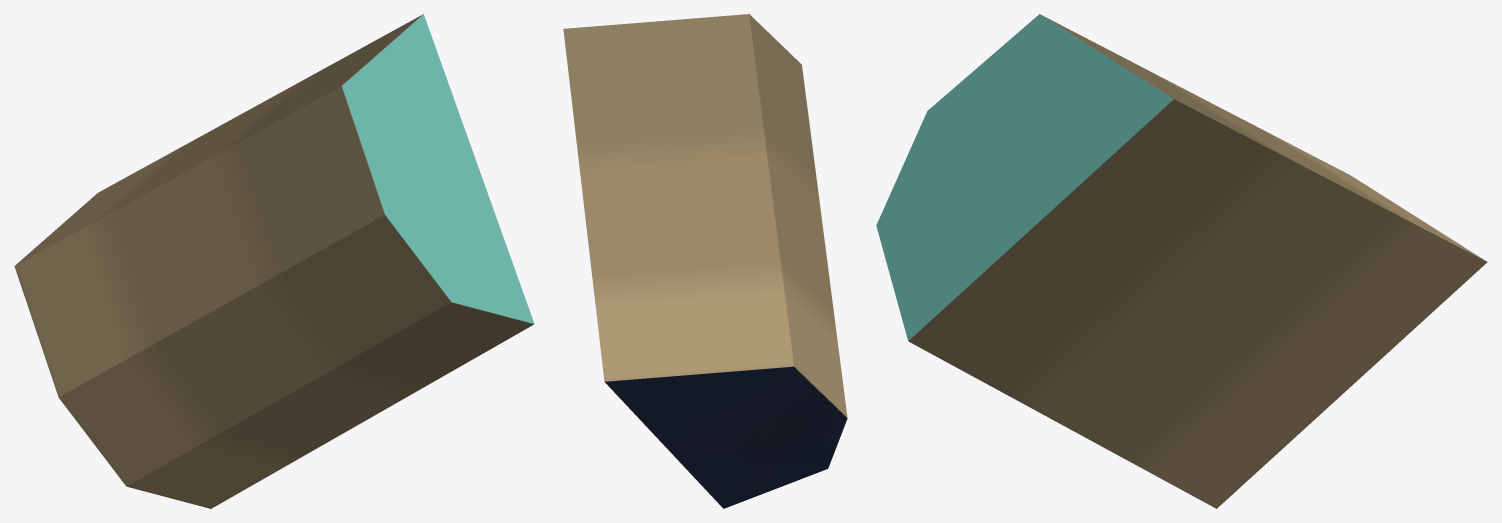
The model's file is 062e_Lebanon.glb.
The picture shows the model from 3 angles, left to right: view 1: azimuth 30°, elevation 25°; view 2: azimuth 150°, elevation 25°; view 3: azimuth 270°, elevation 25°; orthographic projection. The views are drawn at different scales.
Parts seen in each view (by area): view 1: part_0; view 2: part_0; view 3: part_0.
Part boxes in pixels (x1,y1,x2,y2): part_0: (14,14,534,508); part_0: (563,14,847,508); part_0: (876,14,1487,508).
Bounding box in the file's own units: 0.1775 × 0.2355 × 0.2496.
Materials: 1 (1 with a texture image).
